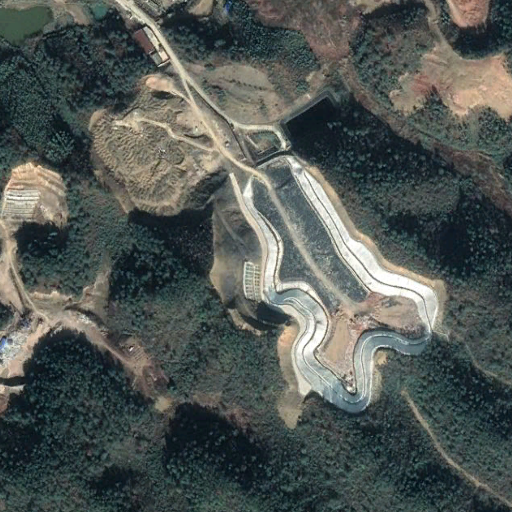lf: (239, 156, 440, 412)
